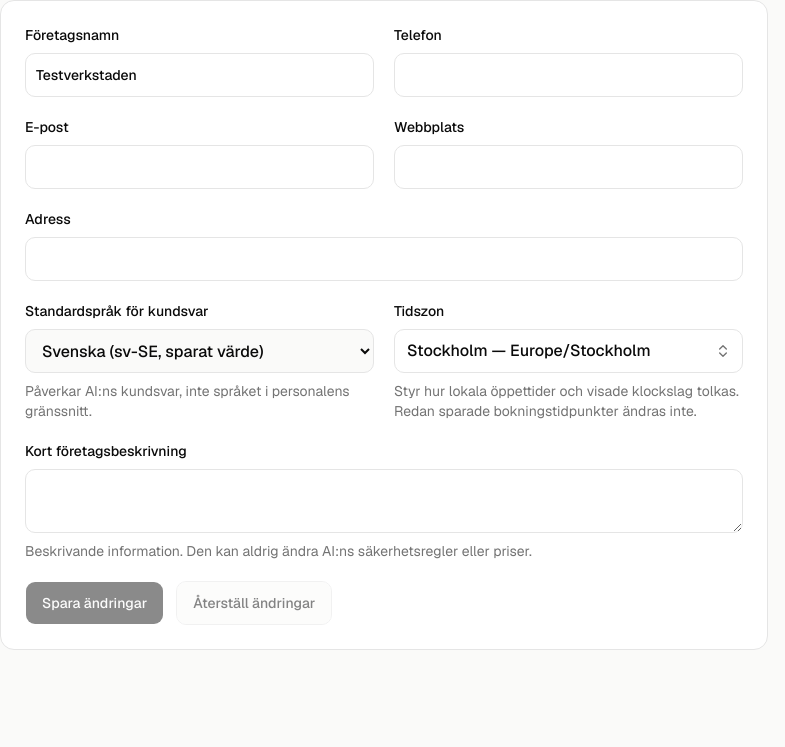
Scenario: settings form behavior › keeps failed input, blocks duplicate submits and saves only after success
Replace the text in the field labelled "Företagsnamn" with "Nytt namn": (200, 75) [25,53,374,97]
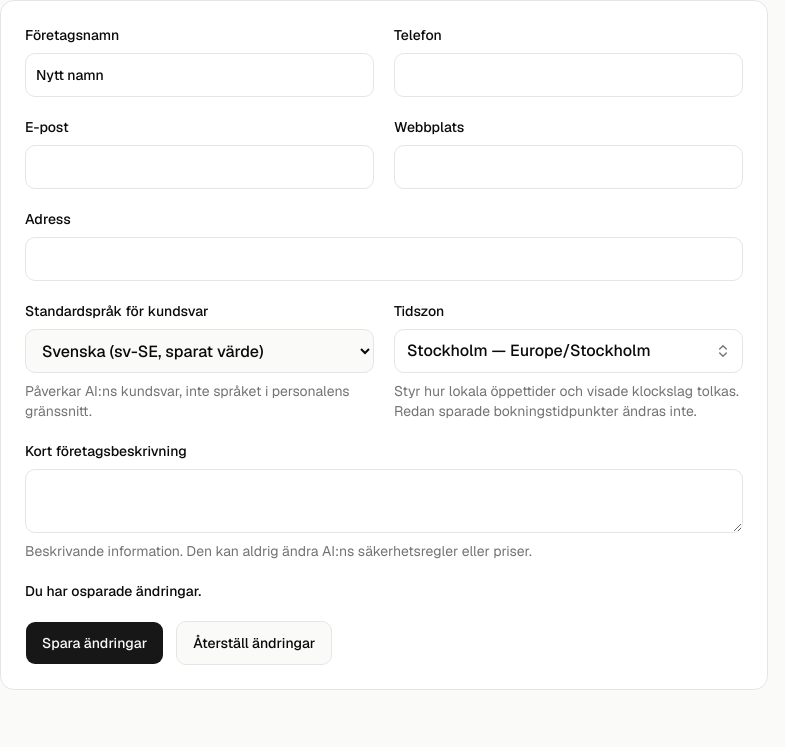
Click the button "Spara ändringar": (95, 643) [25,621,164,665]
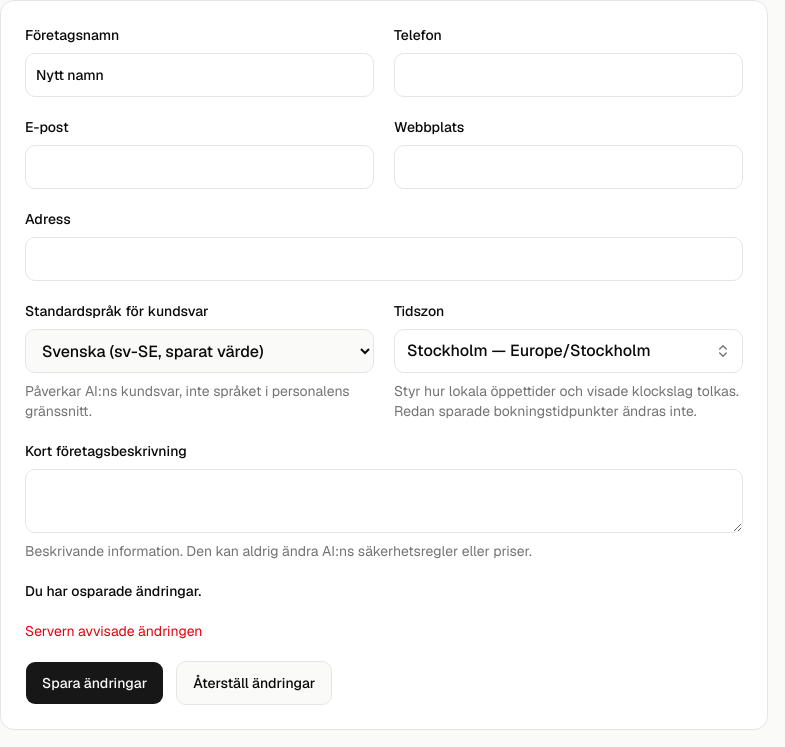
Check: the message "Servern avvisade ändringen" is shown, box [25,622,202,640]
Click the button "Spara ändringar": (95, 683) [25,661,164,705]
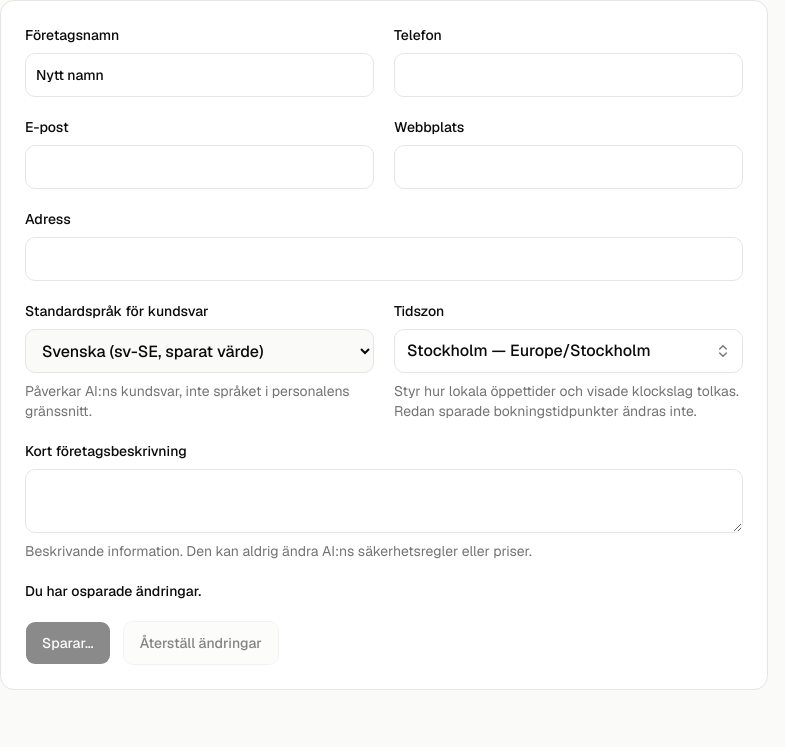
Click the button "Sparar…": (68, 643) [25,621,111,665]
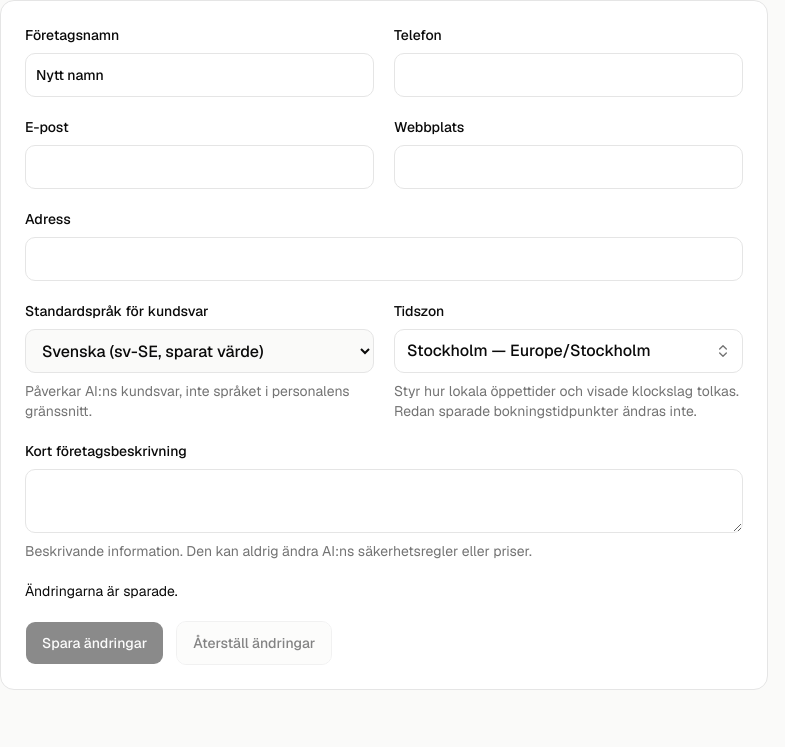
Check: the text "Ändringarna är sparade." is shown, box [25,582,178,600]
